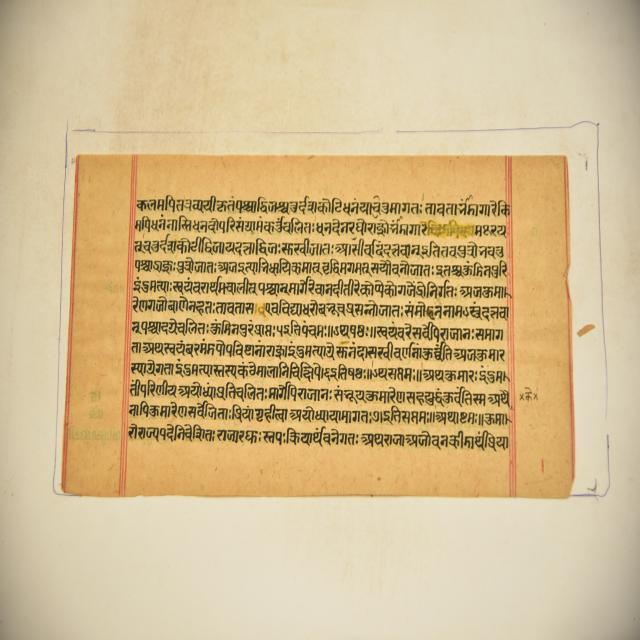text_paragraph: (57, 152, 578, 496)
